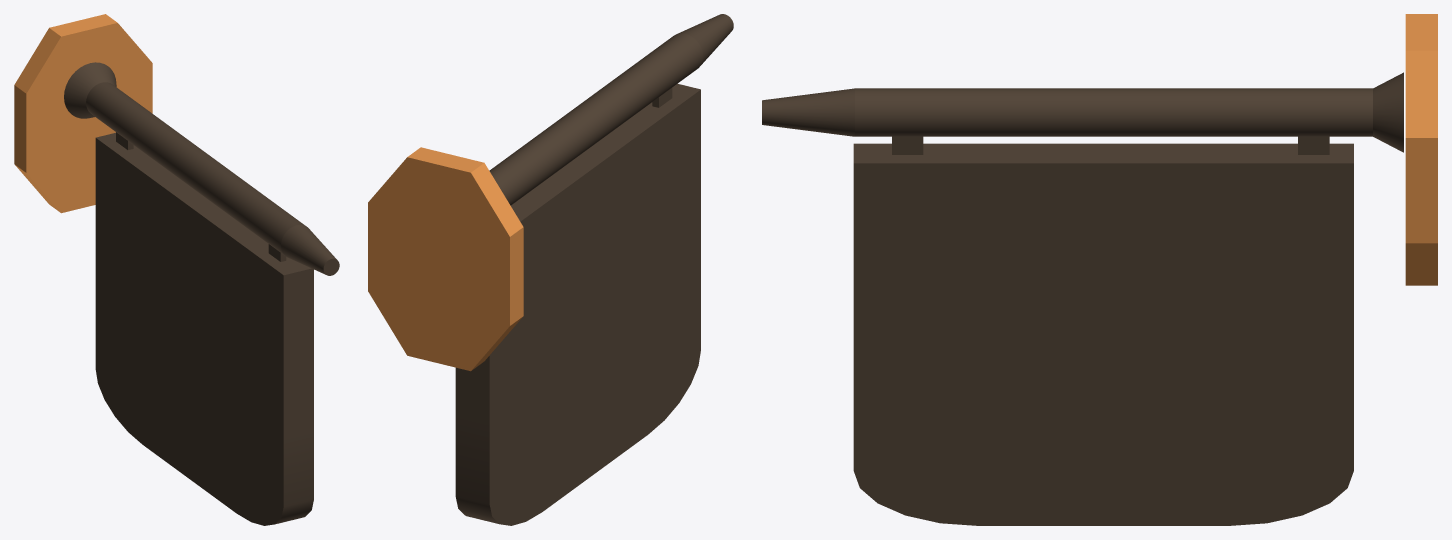
Rendered from sign.fbx.
The picture shows the model from 3 angles, left to right: view 1: azimuth 30°, elevation 25°; view 2: azimuth 150°, elevation 25°; view 3: azimuth 270°, elevation 25°; orthographic projection. The views are drawn at different scales.
Parts seen in each view (by area): view 1: Cube.001, Cube, Cylinder; view 2: Cube.001, Cube, Cylinder; view 3: Cube.001, Cylinder, Cube.
Part boxes in pixels (bbox=[...]): Cube.001: bbox=[95, 132, 313, 525]; Cube: bbox=[14, 14, 152, 213]; Cylinder: bbox=[64, 62, 339, 275]; Cube.001: bbox=[455, 83, 700, 525]; Cube: bbox=[368, 147, 523, 371]; Cylinder: bbox=[489, 14, 733, 205]; Cube.001: bbox=[853, 143, 1353, 525]; Cylinder: bbox=[762, 72, 1403, 152]; Cube: bbox=[1405, 14, 1437, 285].
Size of the model in its own units: 60.35 by 166 by 211.
